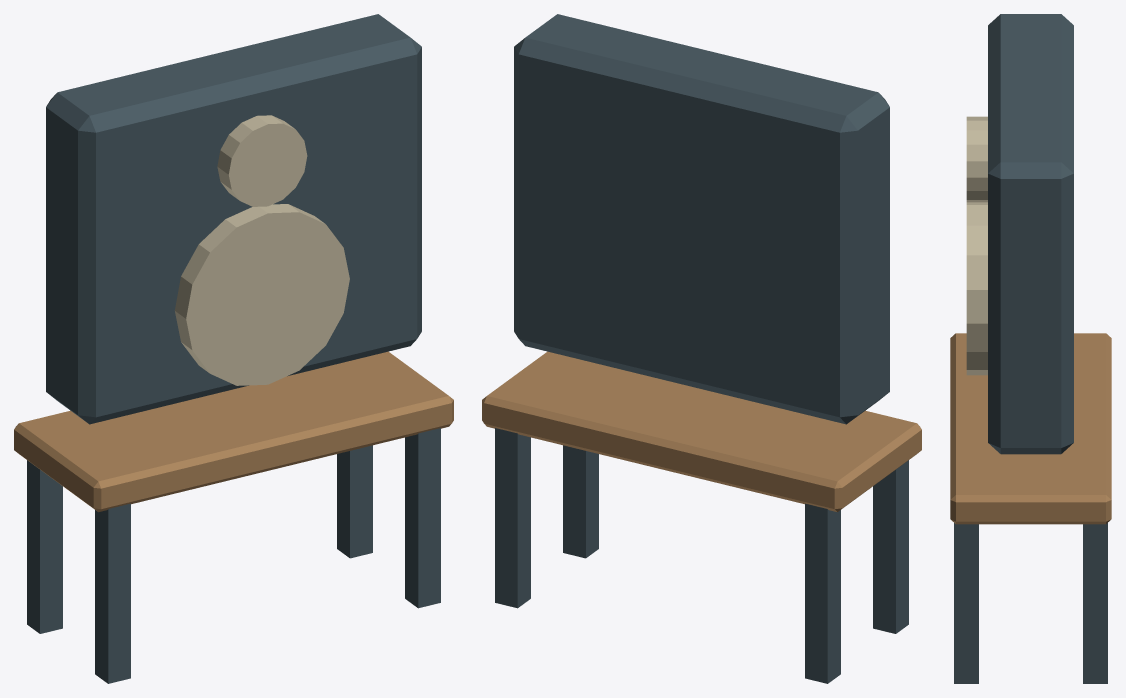
File: pa_speaker.glb
3 views of the same model, side by side, from view 1: azimuth 30°, elevation 25°; view 2: azimuth 150°, elevation 25°; view 3: azimuth 270°, elevation 25° (orthographic). The views are drawn at different scales.
Visible parts, largest first — view 1: pa_speaker; view 2: pa_speaker; view 3: pa_speaker.
Boxes of the visible parts, x1,y1,x2,y2 form: pa_speaker: (14, 14, 453, 683); pa_speaker: (482, 14, 921, 683); pa_speaker: (950, 14, 1111, 683).
Size of the model in its own units: 1.1 by 1.6 by 0.45.
